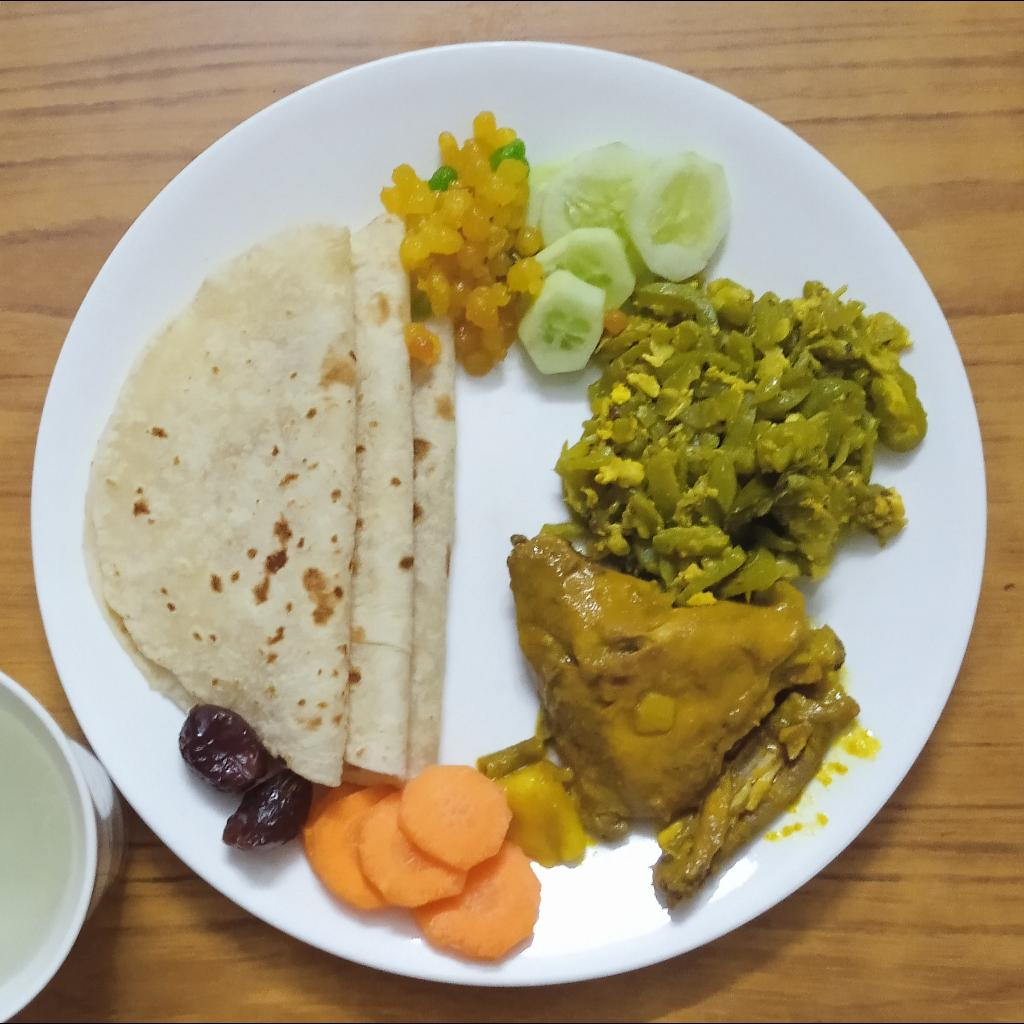burinda: (381, 109, 541, 377)
carrot: (303, 766, 540, 965)
chicken: (509, 533, 855, 917)
cucumber: (526, 137, 733, 380)
dates: (178, 704, 311, 848)
dundol: (554, 282, 929, 595)
potato: (495, 757, 585, 869)
ruti: (81, 215, 456, 791)
